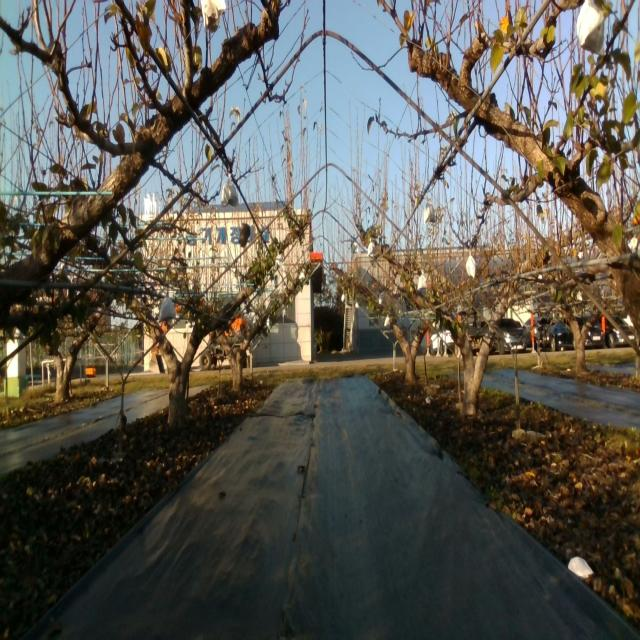pearbags: (576, 0, 606, 56), (156, 294, 178, 324), (221, 172, 239, 208), (424, 200, 436, 225), (466, 251, 476, 279)
